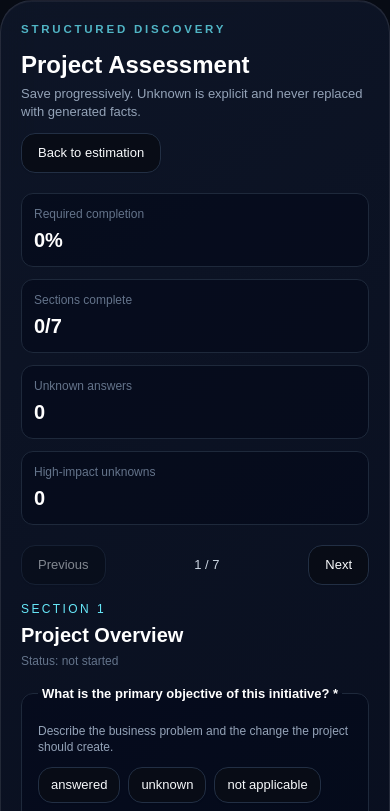
Test: AssessmentWorkspace › provides previous and next controls for the linear phone flow
The width and height of the screenshot is (390, 811).
Check: the button "Previous" is disabled, box [21,545,106,585]
What coordinates should you click on to do the following:
click the button "Next"
I would click on:
 (339, 565)
Its box is [308,545,369,585].
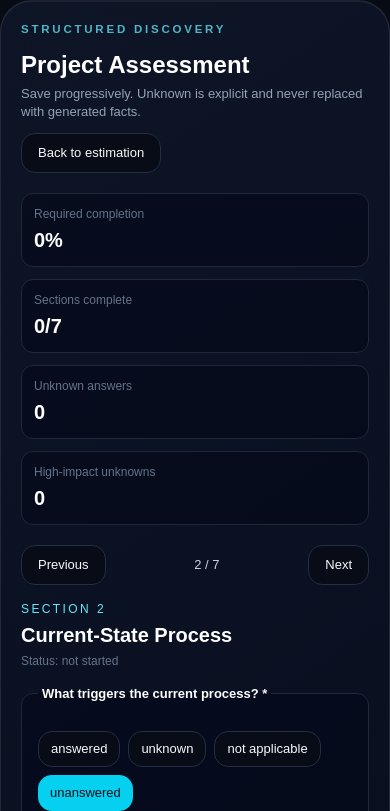
Check: the heading "Current-State Process" is shown, box [21,624,232,646]
